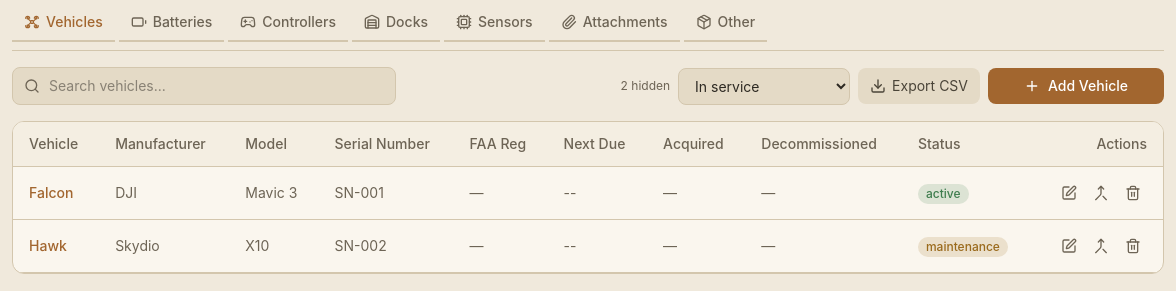
Test: FleetPage › combines the status filter with the search box
This screenshot has width=1176, height=291.
Check: the link "Falcon" is shown, box [29,184,73,201]
Type "Skydio" into the field with placeholder "Search vehicles..." at (204, 86), box [12,67,396,105]
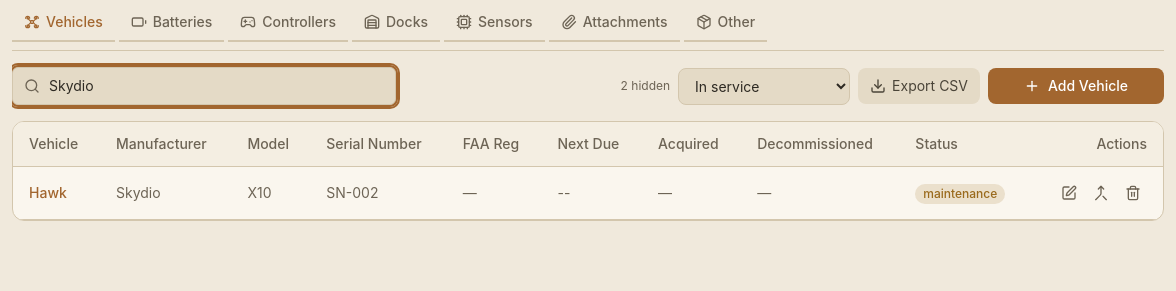
Check: the link "Hawk" is shown, box [29,184,67,201]
Check: the link "Falcon" is gone
